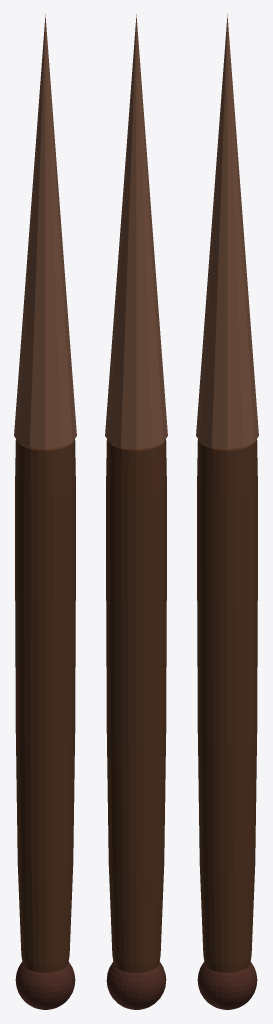
File: Wand 23.glb
The picture shows the model from 3 angles, left to right: view 1: azimuth 90°, elevation 25°; view 2: azimuth 150°, elevation 25°; view 3: azimuth 270°, elevation 25°; orthographic projection.
Parts seen in each view (by area): view 1: GeneratedWand; view 2: GeneratedWand; view 3: GeneratedWand.
Boxes of the visible parts, x1,y1,x2,y2 form: GeneratedWand: (14,14,76,1009); GeneratedWand: (105,14,167,1009); GeneratedWand: (196,14,258,1009).
Bounding box in the file's own units: 0.0282 × 0.4909 × 0.0282.
